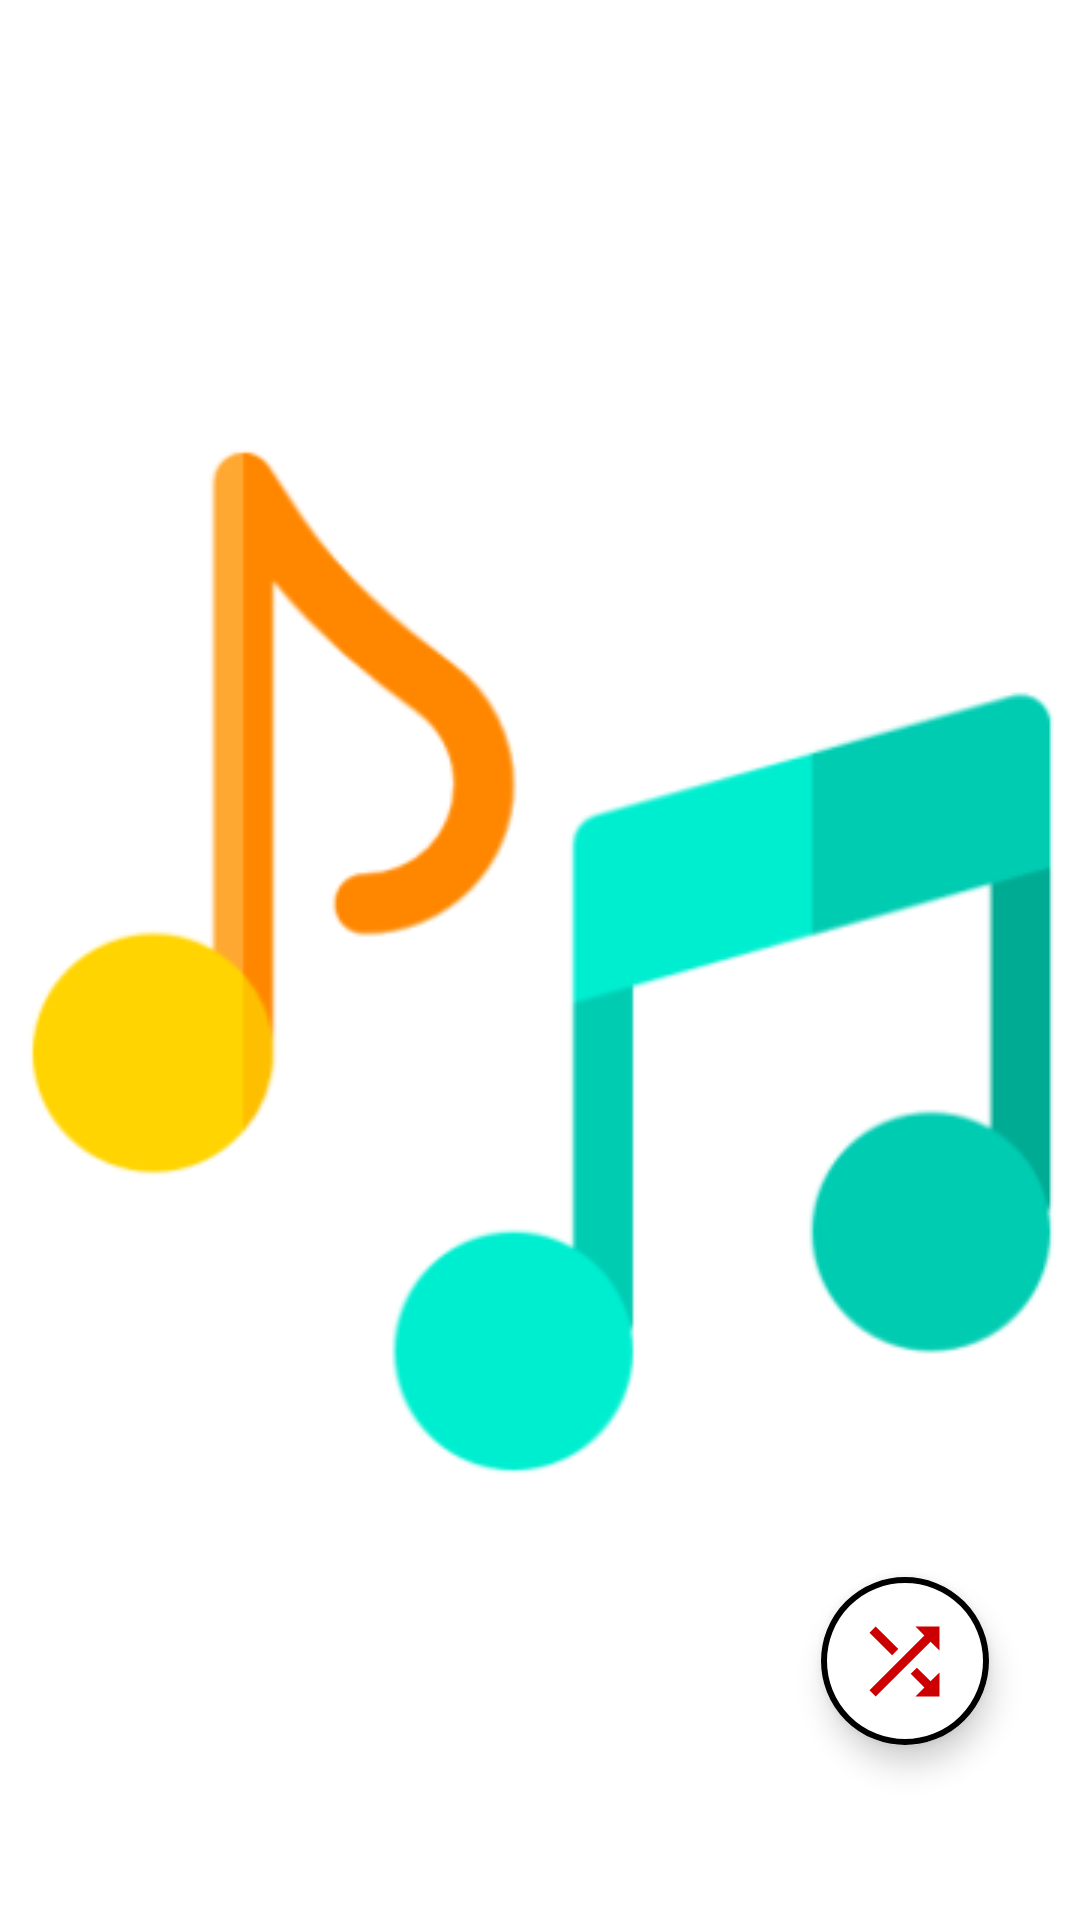

Where icons sit on this 1080*1920 app screen, as bbox=[x1, y1, x2, y2]:
shuffle: bbox=[821, 1577, 989, 1745]
